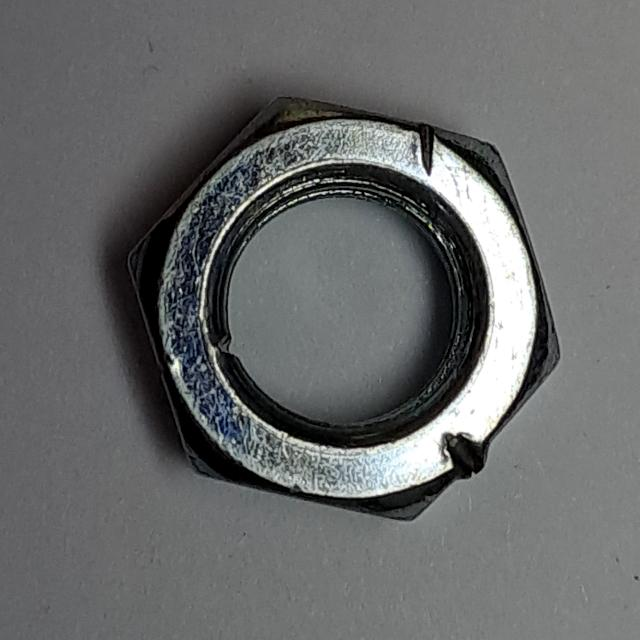Scratches: (111, 79, 575, 536)
